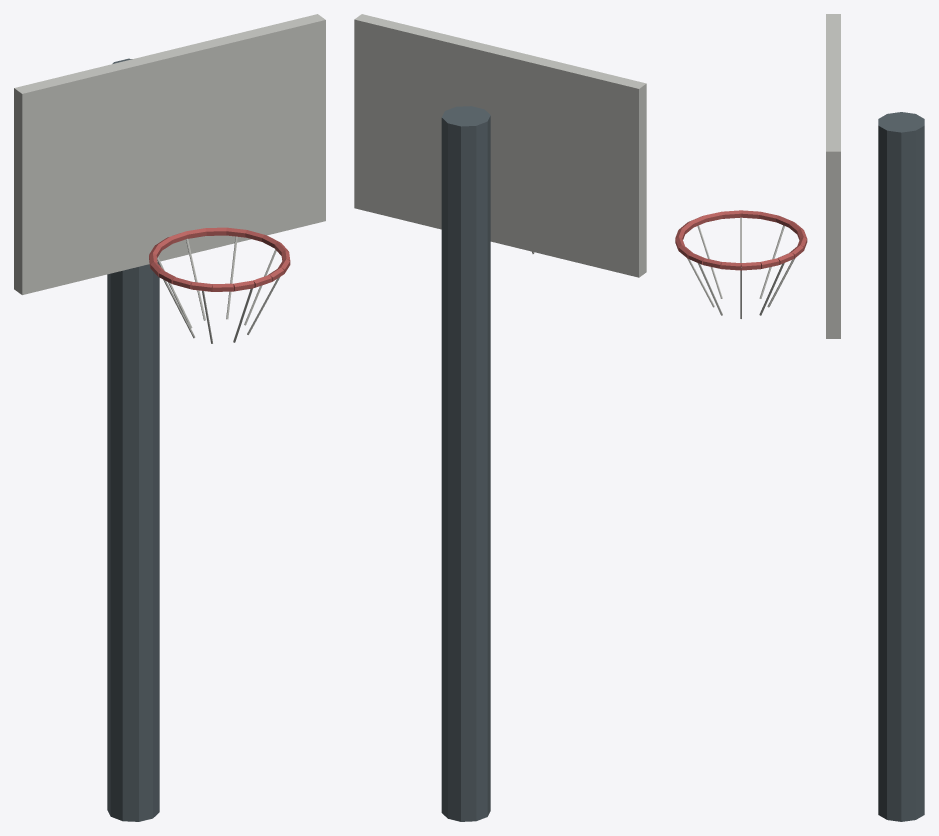
The model's file is GYM-003.glb.
The picture shows the model from 3 angles, left to right: view 1: azimuth 30°, elevation 25°; view 2: azimuth 150°, elevation 25°; view 3: azimuth 270°, elevation 25°; orthographic projection. The views are drawn at different scales.
Parts seen in each view (by area): view 1: 001_Backboard, 000_Post; view 2: 001_Backboard, 000_Post; view 3: 000_Post, 001_Backboard.
Boxes of the visible parts, left/top/right/bottom form: 001_Backboard: left=14, top=14, right=325, bottom=294; 000_Post: left=107, top=58, right=159, bottom=821; 001_Backboard: left=354, top=14, right=646, bottom=277; 000_Post: left=441, top=106, right=490, bottom=821; 000_Post: left=878, top=112, right=924, bottom=821; 001_Backboard: left=826, top=14, right=840, bottom=338.
Size of the model in its own units: 1.2 by 2.96 by 0.9184.
